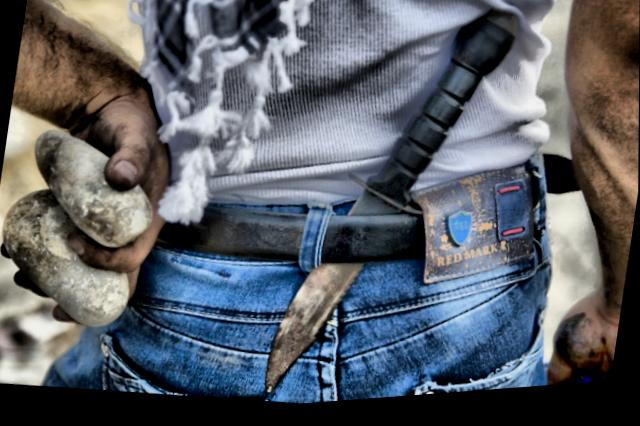knife: (227, 111, 450, 413)
